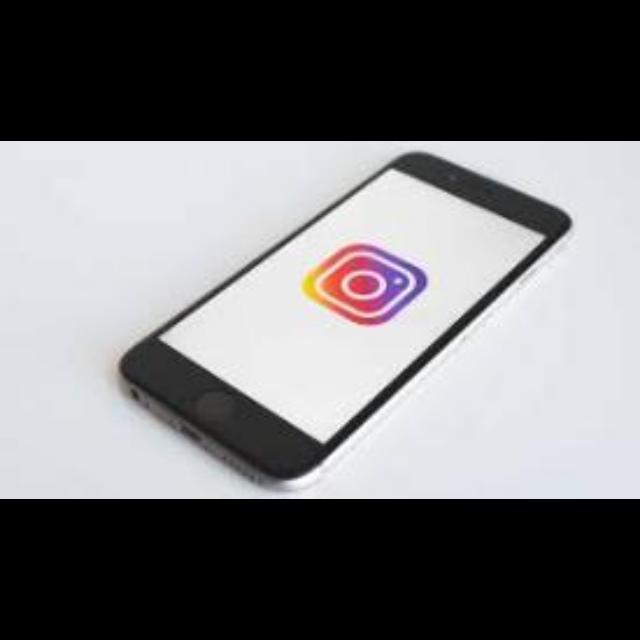Phone: (116, 150, 572, 490)
